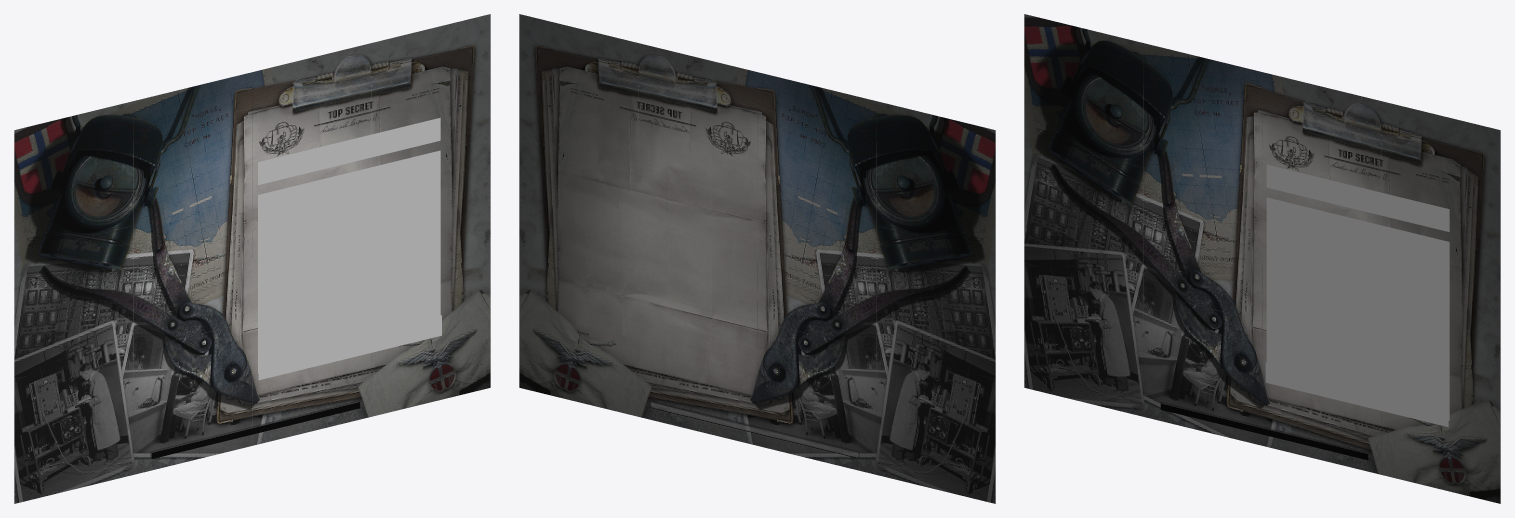
The model's file is Loader.fbx.
3 views of the same model, side by side, from view 1: azimuth 30°, elevation 25°; view 2: azimuth 150°, elevation 25°; view 3: azimuth 330°, elevation 25° (orthographic).
Parts seen in each view (by area): view 1: screen, briefing, title, textbar, loadbar; view 2: screen; view 3: screen, briefing, title, textbar, loadbar.
Part boxes in pixels (x1,y1,x2,y2): screen: (14,14,490,503); briefing: (258,150,440,373); title: (258,117,440,184); textbar: (258,315,441,380); loadbar: (151,402,359,458); screen: (519,14,995,503); screen: (1024,14,1500,503); briefing: (1266,197,1449,420); title: (1266,164,1449,231); textbar: (1265,362,1448,427); loadbar: (1160,403,1368,460).
Size of the model in its own units: 100 by 75 by 0.6037.
